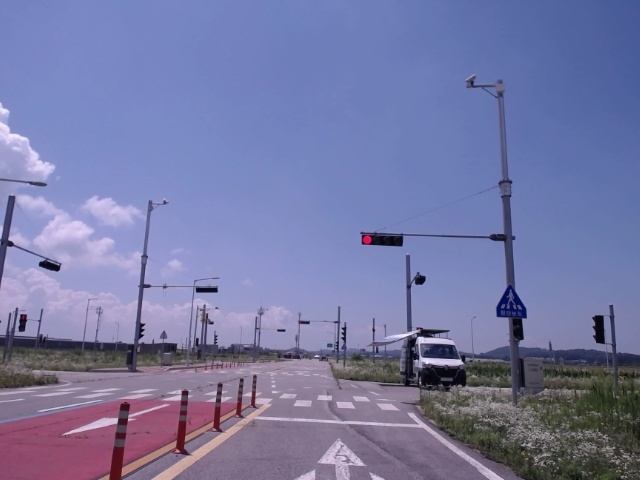red_4: (362, 234, 403, 246)
